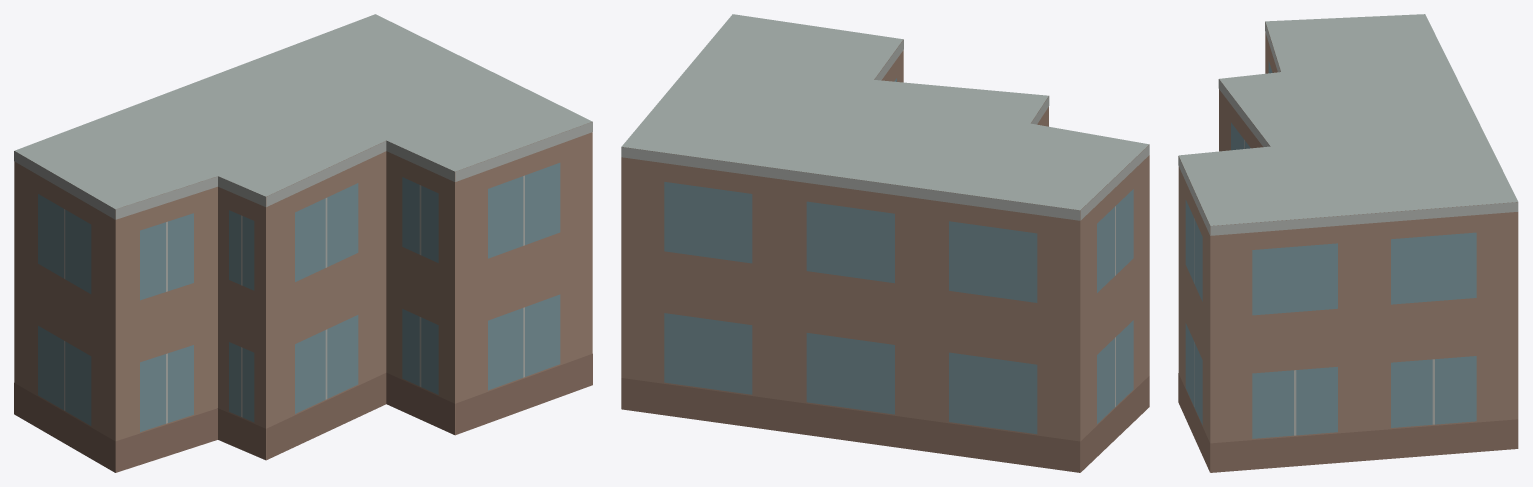
File: survey-upis-32723728.glb
3 views of the same model, side by side, from view 1: azimuth 30°, elevation 25°; view 2: azimuth 150°, elevation 25°; view 3: azimuth 270°, elevation 25° (orthographic). The views are drawn at different scales.
Parts seen in each view (by area): view 1: survey-upis-32723728.tmp; view 2: survey-upis-32723728.tmp; view 3: survey-upis-32723728.tmp.
Part boxes in pixels (<box>): survey-upis-32723728.tmp: <box>14,14,592,472</box>; survey-upis-32723728.tmp: <box>621,14,1149,472</box>; survey-upis-32723728.tmp: <box>1178,14,1518,472</box>.
Bounding box in the file's own units: 11.24 × 6.1 × 7.62.
